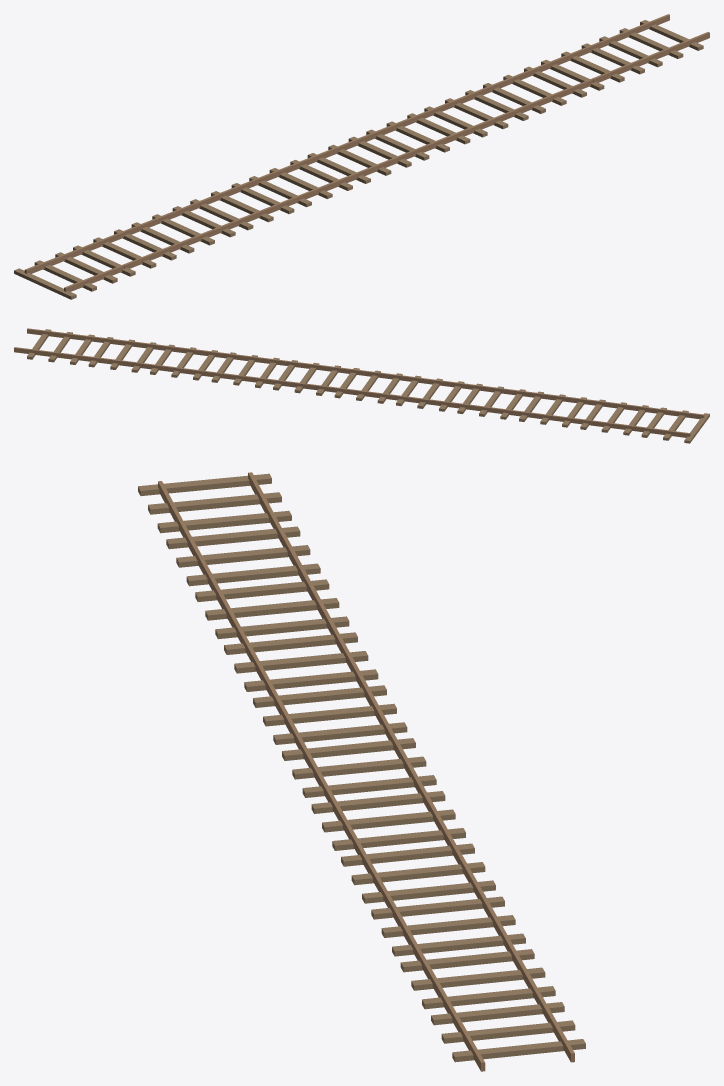
Rendered from street_5_-1.glb.
3 renders of one model, top to bottom at view 1: azimuth 30°, elevation 25°; view 2: azimuth 150°, elevation 25°; view 3: azimuth 270°, elevation 25°, orthographic. The views are drawn at different scales.
Visible parts, largest first — view 1: wood.072, rust.072; view 2: rust.072, wood.072; view 3: wood.072, rust.072.
Boxes of the visible parts, x1,y1,x2,y2 form: wood.072: (14,20,703,299); rust.072: (24,14,709,291); rust.072: (14,328,704,437); wood.072: (27,329,709,443); wood.072: (138,473,585,1062); rust.072: (158,472,574,1071).
Size of the model in its own units: 21.92 by 0.185 by 6.98.
